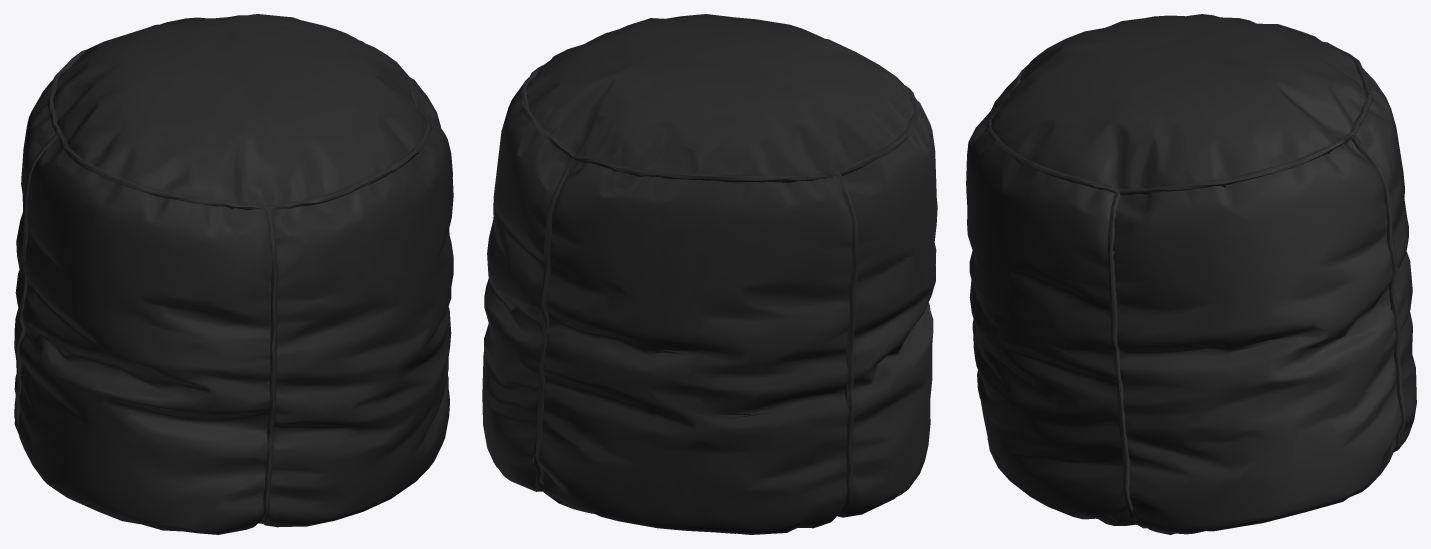
The model's file is raw_model.obj.
3 views of the same model, side by side, from view 1: azimuth 30°, elevation 25°; view 2: azimuth 150°, elevation 25°; view 3: azimuth 270°, elevation 25° (orthographic). The views are drawn at different scales.
Parts seen in each view (by area): view 1: solid_001; view 2: solid_001; view 3: solid_001.
Boxes of the visible parts, x1=… form: solid_001: x1=14, y1=14, x2=453, y2=534; solid_001: x1=482, y1=14, x2=937, y2=534; solid_001: x1=966, y1=14, x2=1416, y2=534.
Bounding box in the file's own units: 0.6432 × 0.6408 × 0.6551.
1 material, 1 textured.
